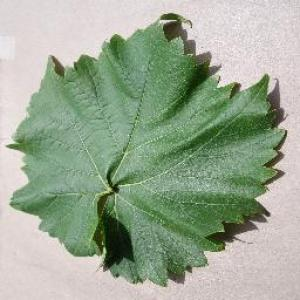Folha: (5, 12, 287, 286)
